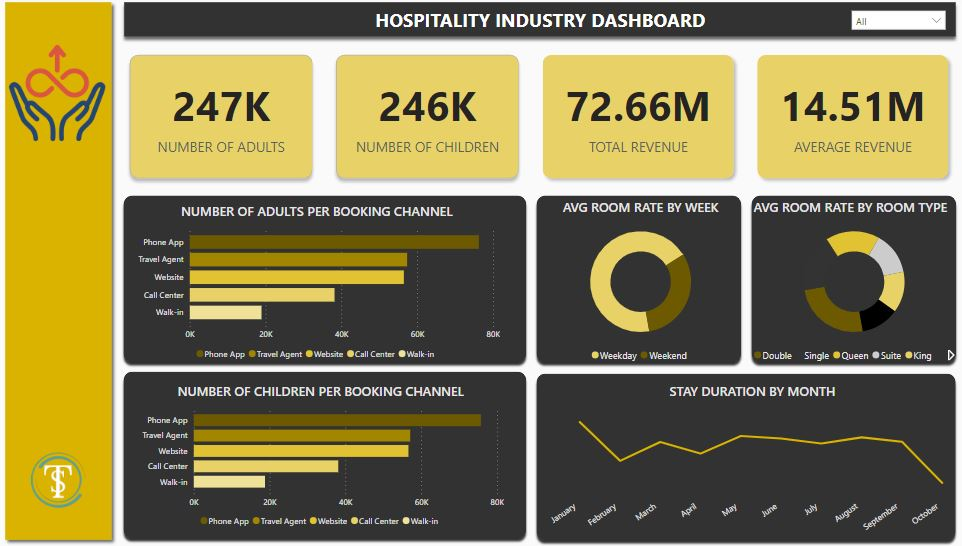

Layout of this report page (visuals, bound fields, positions):
{"tool":"powerbi","page":{"name":"Page 1","canvas":[1400,800],"ordinal":0},"visuals":[{"type":"shape","box":[1086.2,282.6,313.8,258.7],"z":0},{"type":"shape","box":[172.5,537.6,601.8,258.7],"z":1000},{"type":"shape","box":[774.3,541.3,625.7,258.7],"z":2000},{"type":"shape","box":[774.3,282.6,313.8,258.7],"z":3000},{"type":"shape","box":[0,0,172.5,800],"z":4000},{"type":"shape","box":[172.5,0,1227.5,67.9],"z":5000},{"type":"cardVisual","fields":{"Data":["Sum(Hospitality.adults)","Sum(Hospitality.children)"]},"box":[172.5,67.9,601.8,214.7],"z":6000},{"type":"barChart","title":"NUMBER OF CHILDREN PER BOOKING CHANNEL","fields":{"Y":["Sum(Hospitality.children)"],"Category":["Hospitality.booking_channel"],"Series":["Hospitality.booking_channel"]},"box":[196.3,561.5,543.1,220.2],"z":7000},{"type":"textbox","box":[420.2,11,733.9,45.9],"z":8000},{"type":"cardVisual","fields":{"Data":["Sum(Hospitality.Total Revenue Generated)","Sum(Hospitality.Avg Room Rate)"]},"box":[774.3,67.9,625.7,214.7],"z":9000},{"type":"donutChart","title":"AVG ROOM RATE BY WEEK","fields":{"Y":["Sum(Hospitality.Avg Room Rate)"],"Category":["Hospitality.Rate Type"]},"box":[778,293.6,310.1,247.7],"z":10000},{"type":"lineChart","title":"STAY DURATION BY MONTH","fields":{"Y":["Sum(Hospitality.stay_duration)"],"Category":["Hospitality.check_in_date.Variation.Date Hierarchy.Month"]},"box":[790.8,561.5,609.2,238.5],"z":11000},{"type":"image","box":[0,627.5,172.5,172.5],"z":12000},{"type":"image","box":[9.2,0,152.3,282.6],"z":13000},{"type":"donutChart","title":"AVG ROOM RATE BY ROOM TYPE","fields":{"Y":["Sum(Hospitality.Avg Room Rate)"],"Category":["Hospitality.room_type"]},"box":[1091.7,293.6,302.8,247.7],"z":14000},{"type":"shape","box":[172.5,282.6,601.8,258.7],"z":15000},{"type":"barChart","title":"NUMBER OF ADULTS PER BOOKING CHANNEL","fields":{"Category":["Hospitality.booking_channel"],"Series":["Hospitality.booking_channel"],"Y":["Sum(Hospitality.adults)"]},"box":[190.8,299.1,543.1,238.5],"z":16000},{"type":"slicer","fields":{"Values":["Hospitality.check_in_date.Variation.Date Hierarchy.Month"]},"box":[1231.2,11,156,45.9],"z":16001}]}

Visuals, with their boxes in screenshot pixels (x1, y1, x2, y2), scaled from the page's 1400x800 canvas onto the 962x546 screenshot:
shape: rect(746, 193, 961, 369)
shape: rect(119, 367, 532, 543)
shape: rect(532, 369, 961, 545)
shape: rect(532, 193, 748, 369)
shape: rect(0, 0, 119, 545)
shape: rect(119, 0, 961, 46)
cardVisual - Sum(Hospitality.adults) x Sum(Hospitality.children): rect(119, 46, 532, 193)
"NUMBER OF CHILDREN PER BOOKING CHANNEL" barChart: rect(135, 383, 508, 534)
textbox: rect(289, 8, 793, 39)
cardVisual - Sum(Hospitality.Total Revenue Generated) x Sum(Hospitality.Avg Room Rate): rect(532, 46, 961, 193)
"AVG ROOM RATE BY WEEK" donutChart: rect(535, 200, 748, 369)
"STAY DURATION BY MONTH" lineChart: rect(543, 383, 961, 545)
image: rect(0, 428, 119, 545)
image: rect(6, 0, 111, 193)
"AVG ROOM RATE BY ROOM TYPE" donutChart: rect(750, 200, 958, 369)
shape: rect(119, 193, 532, 369)
"NUMBER OF ADULTS PER BOOKING CHANNEL" barChart: rect(131, 204, 504, 367)
slicer - Hospitality.check_in_date.Variation.Date Hierarchy.Month: rect(846, 8, 953, 39)
